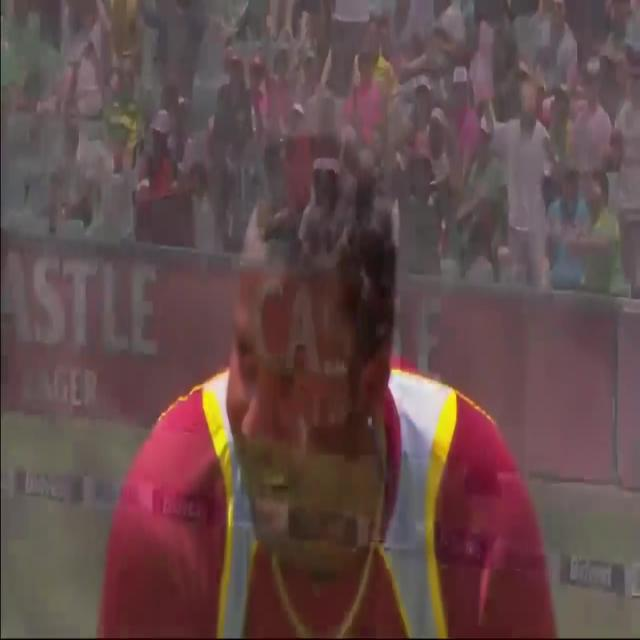Fielder: (95, 123, 546, 640)
